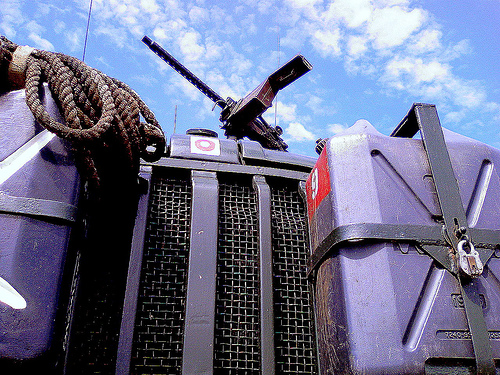rifle: (122, 32, 334, 154)
